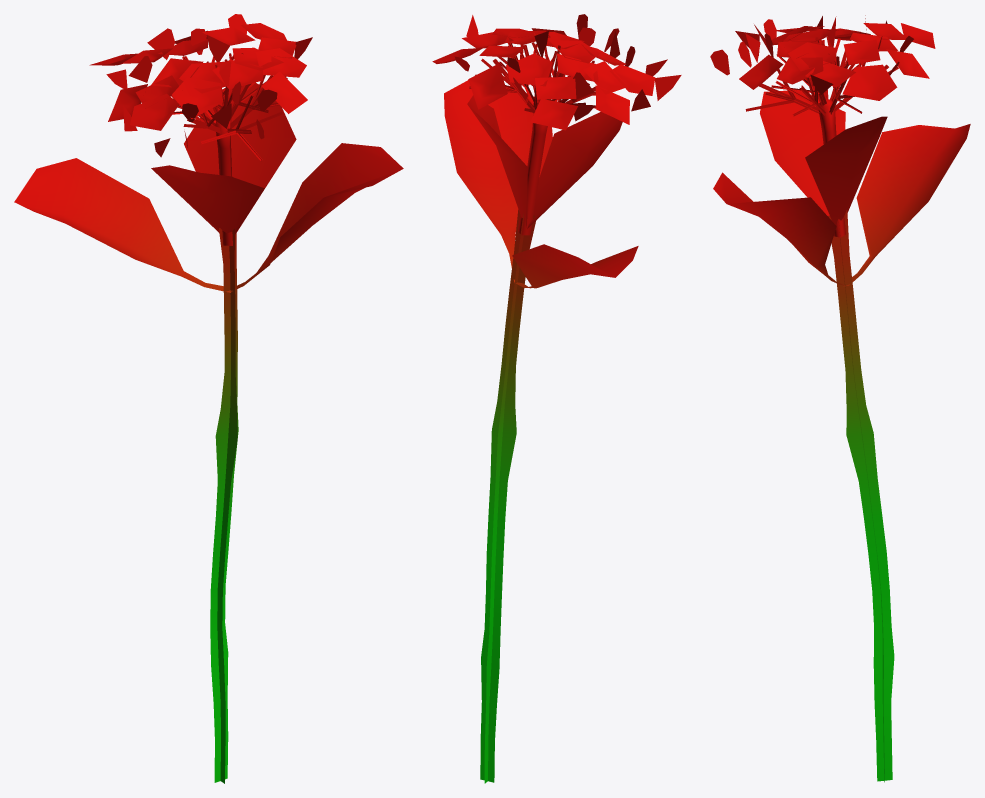
File: Var11_LOD3.fbx
The picture shows the model from 3 angles, left to right: view 1: azimuth 30°, elevation 25°; view 2: azimuth 150°, elevation 25°; view 3: azimuth 270°, elevation 25°; orthographic projection. The views are drawn at different scales.
Parts seen in each view (by area): view 1: _l0a5_Var11_LOD3; view 2: _l0a5_Var11_LOD3; view 3: _l0a5_Var11_LOD3.
Boxes of the visible parts, x1,y1,x2,y2 form: _l0a5_Var11_LOD3: [14, 14, 403, 783]; _l0a5_Var11_LOD3: [432, 14, 681, 783]; _l0a5_Var11_LOD3: [710, 15, 970, 782].
Bounding box in the file's own units: 16.19 × 43.9 × 13.88.
